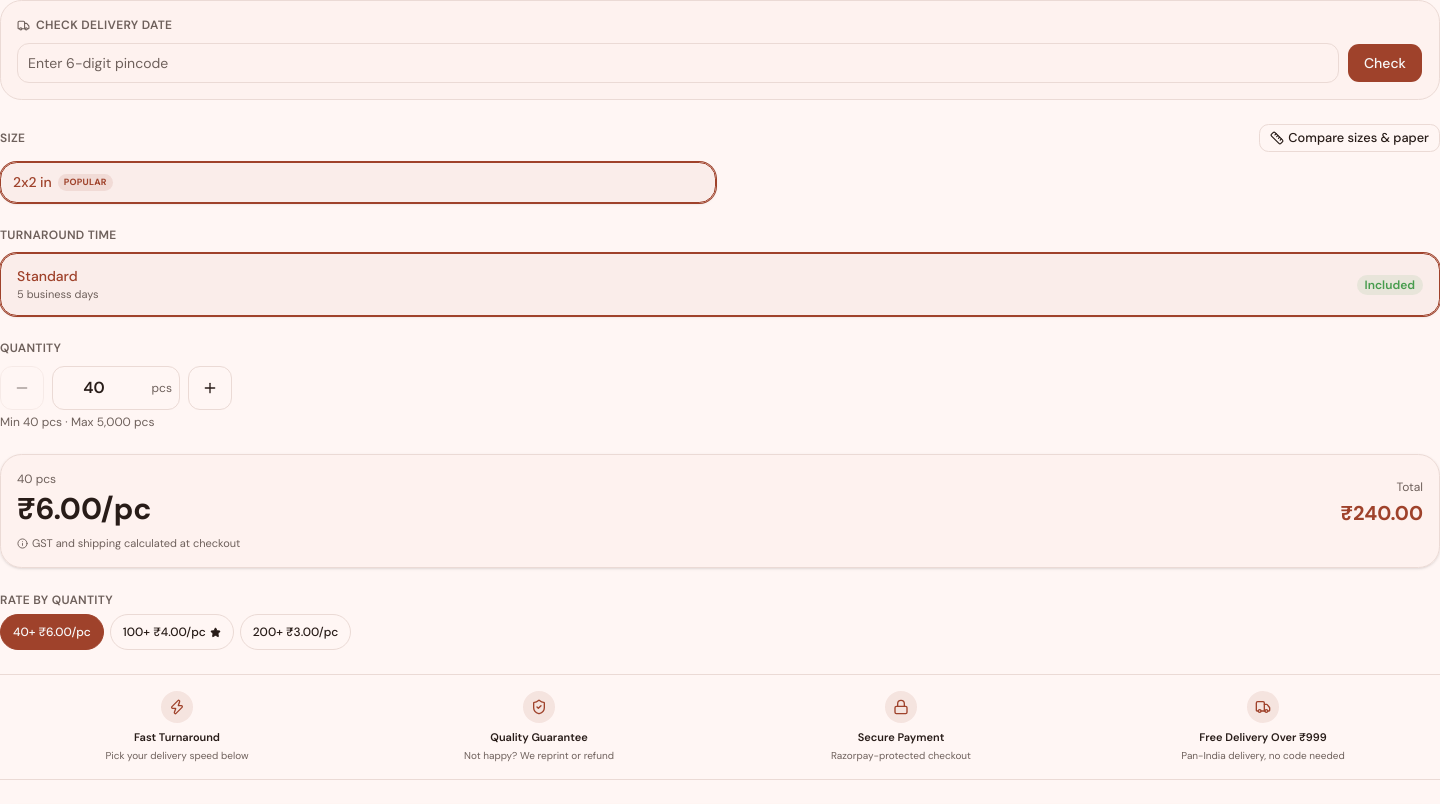
it: ProductConfigurator › typing below the minimum prices at the minimum and never errors; blur snaps
Replace the text in the field named "Quantity" with "10". click: (116, 388)
box: [52, 366, 180, 410]
Wait 150 ms
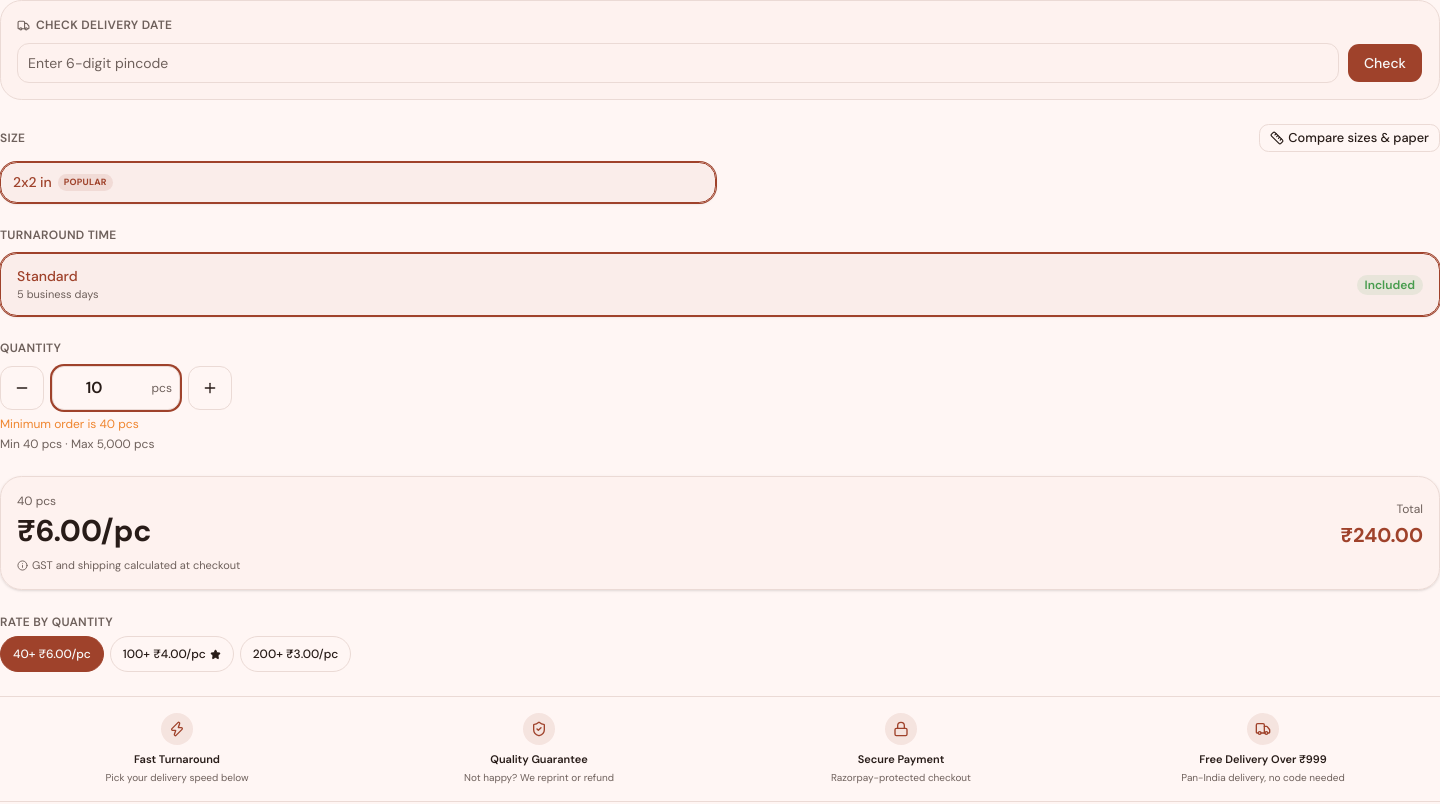
expect the text "₹240.00" is shown: met, box [1341, 521, 1423, 549]
expect the text "Minimum order is 40 pcs" is shown: met, box [0, 416, 139, 432]
Leave the field named "Quantity", box [52, 366, 180, 410]
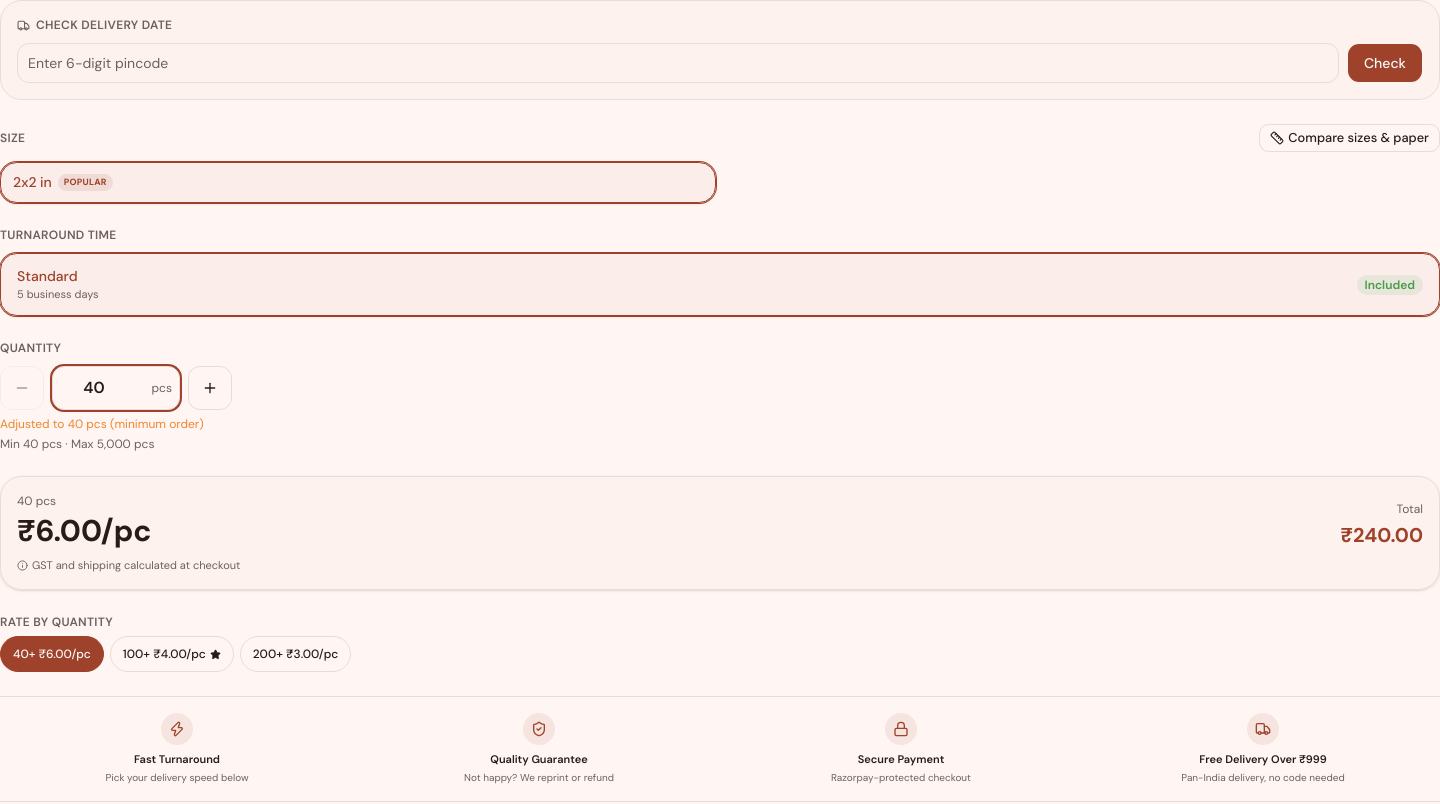
expect the field named "Quantity" holds "40": met, box [52, 366, 180, 410]
